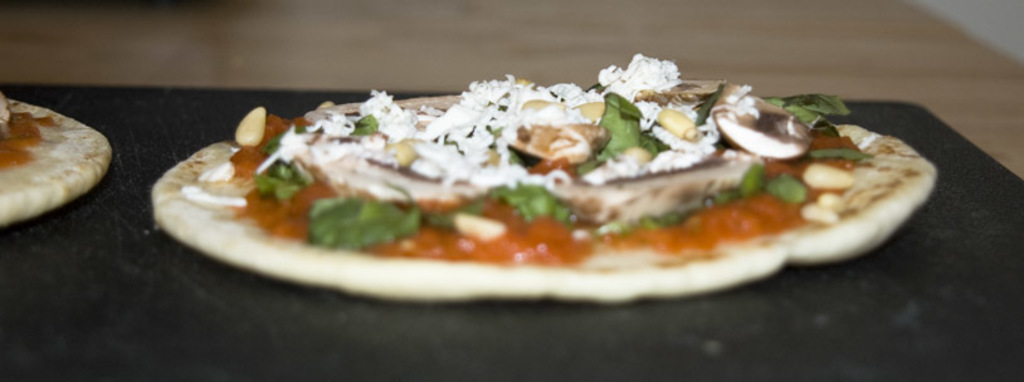Pizza: (163, 55, 954, 307), (0, 85, 111, 222)
